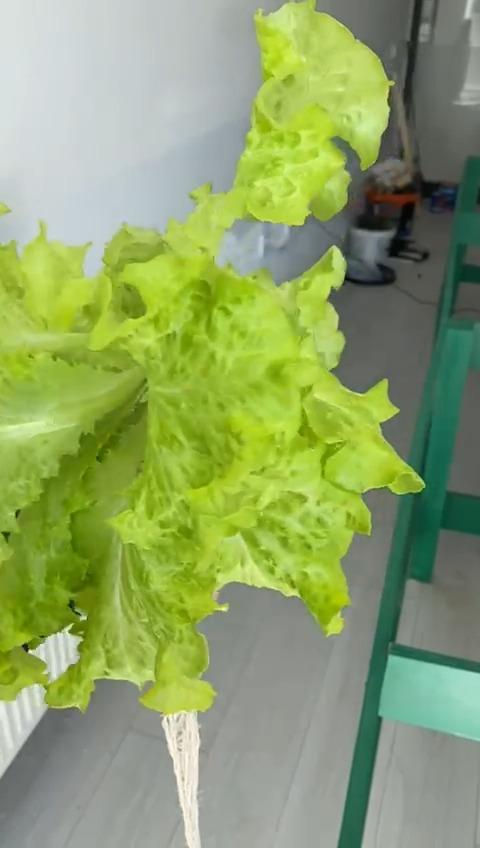Healthy: (3, 5, 428, 706)
